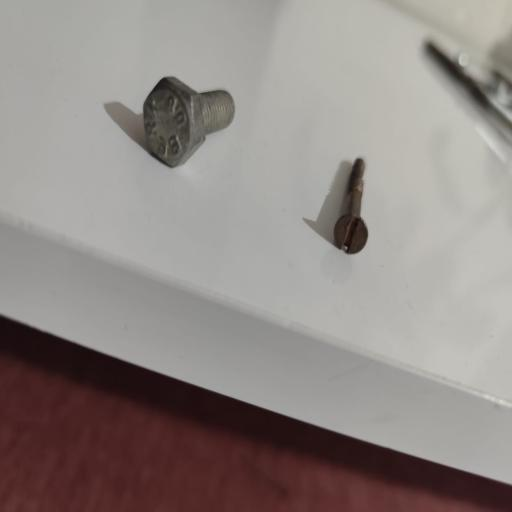Hex-Allen: (135, 71, 213, 165)
Slotted: (328, 208, 371, 258)
